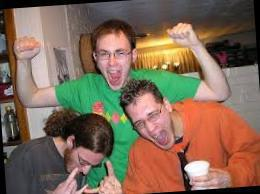Drunk: (124, 93, 176, 148), (95, 35, 131, 88)
